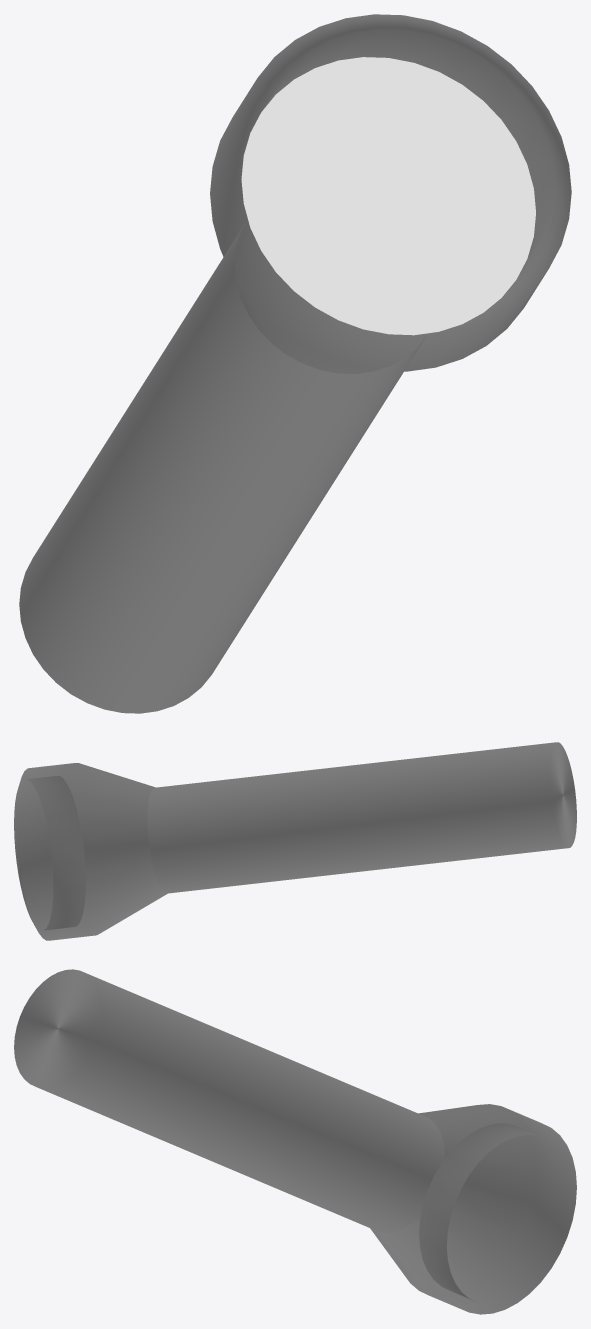
The model's file is ps2_save-icons_aloneinthedark4thenewnightmare.glb.
The picture shows the model from 3 angles, top to bottom: view 1: azimuth 30°, elevation 25°; view 2: azimuth 150°, elevation 25°; view 3: azimuth 270°, elevation 25°; orthographic projection. The views are drawn at different scales.
Parts seen in each view (by area): view 1: Torch0.ico; view 2: Torch0.ico; view 3: Torch0.ico.
Boxes of the visible parts, x1,y1,x2,y2 form: Torch0.ico: [19, 14, 571, 713]; Torch0.ico: [14, 742, 576, 940]; Torch0.ico: [14, 969, 576, 1314].
Size of the model in its own units: 2.23 by 0.8025 by 2.23.
Materials: 1 (1 with a texture image).
